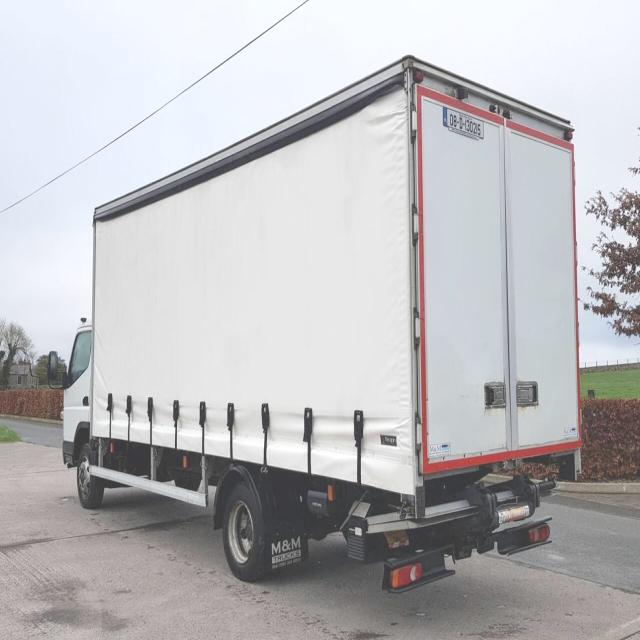truck: (53, 56, 581, 589)
